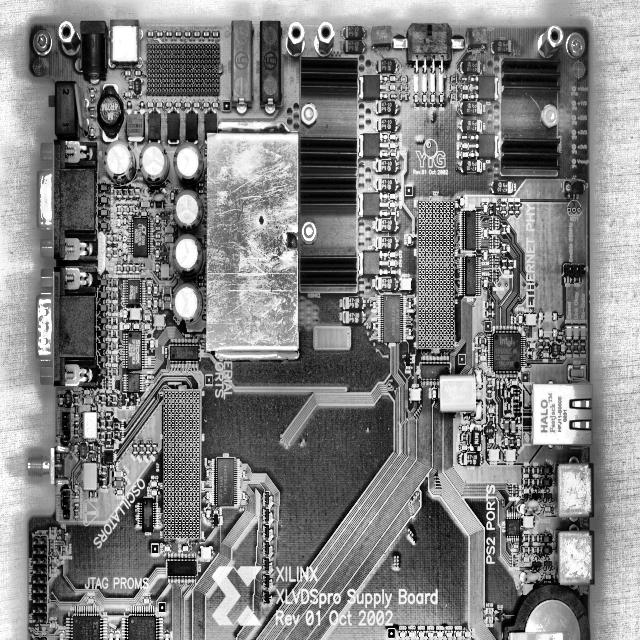PCB: (27, 23, 593, 640)
